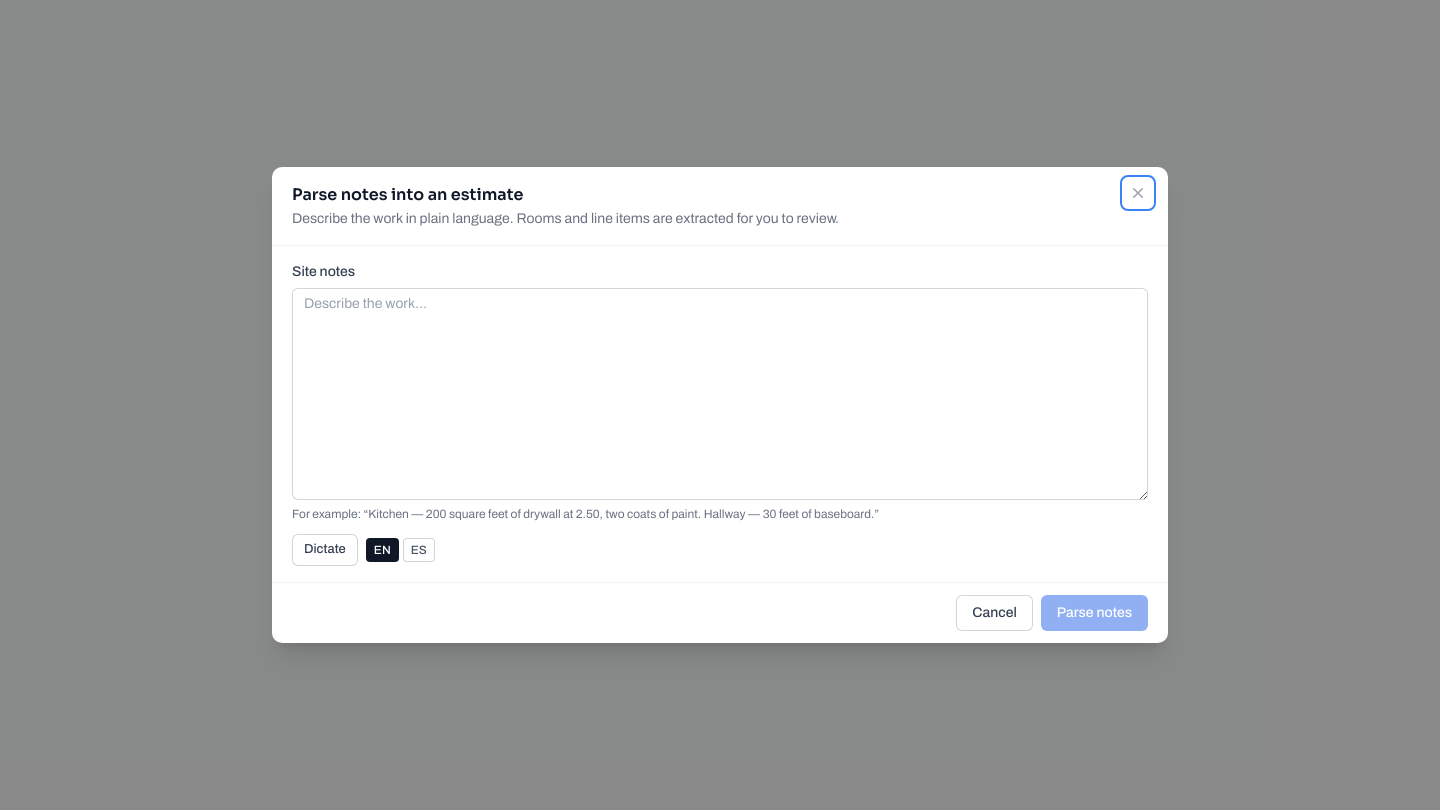
Test case: ParseNotesDrawer › failures › says the parser is unconfigured rather than showing a raw 503
This screenshot has width=1440, height=810.
Type "Kitchen" into the text box labelled "Site notes" at [720, 394], box [292,288,1148,500]
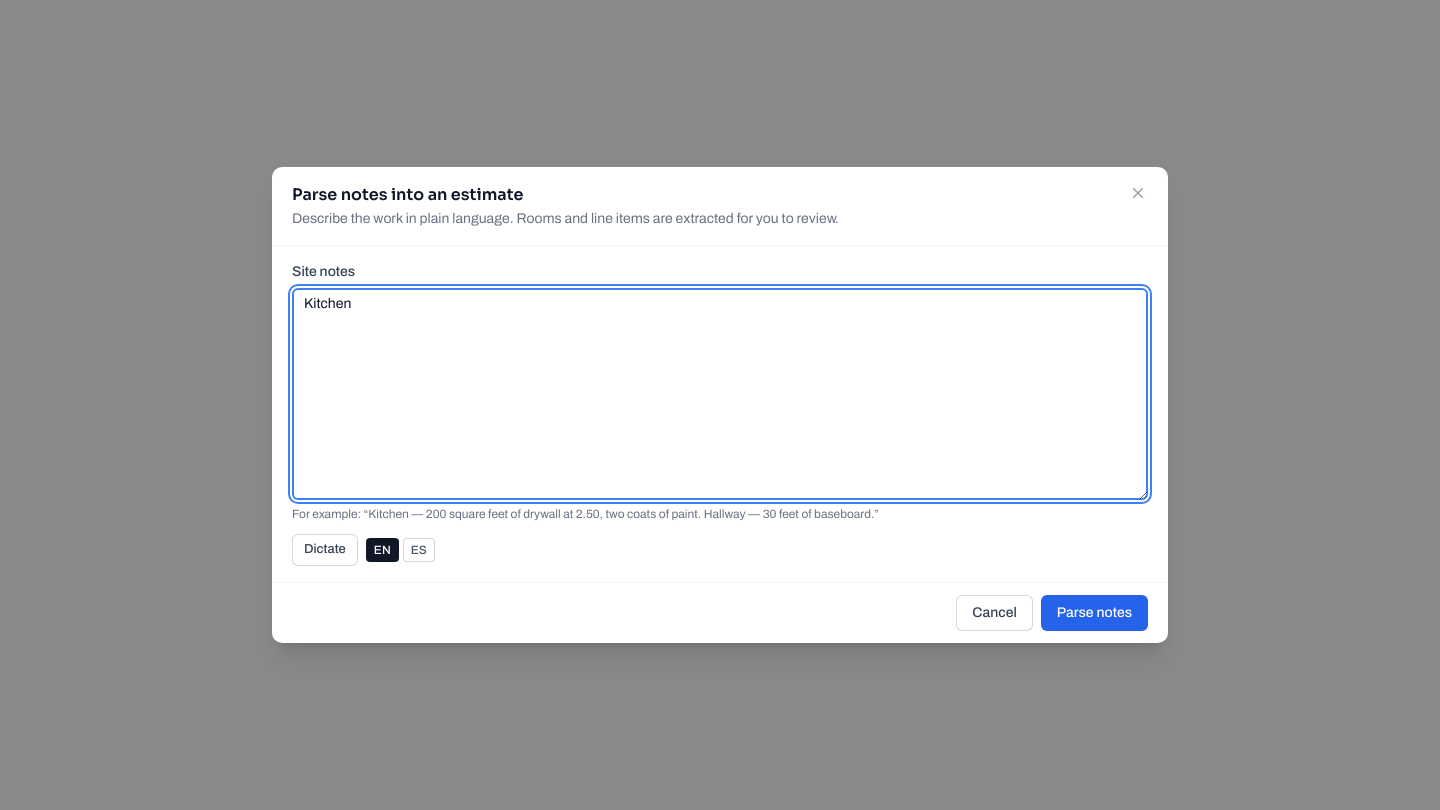
Click the button "Parse notes" at [1094, 613], box [1041,595,1148,631]
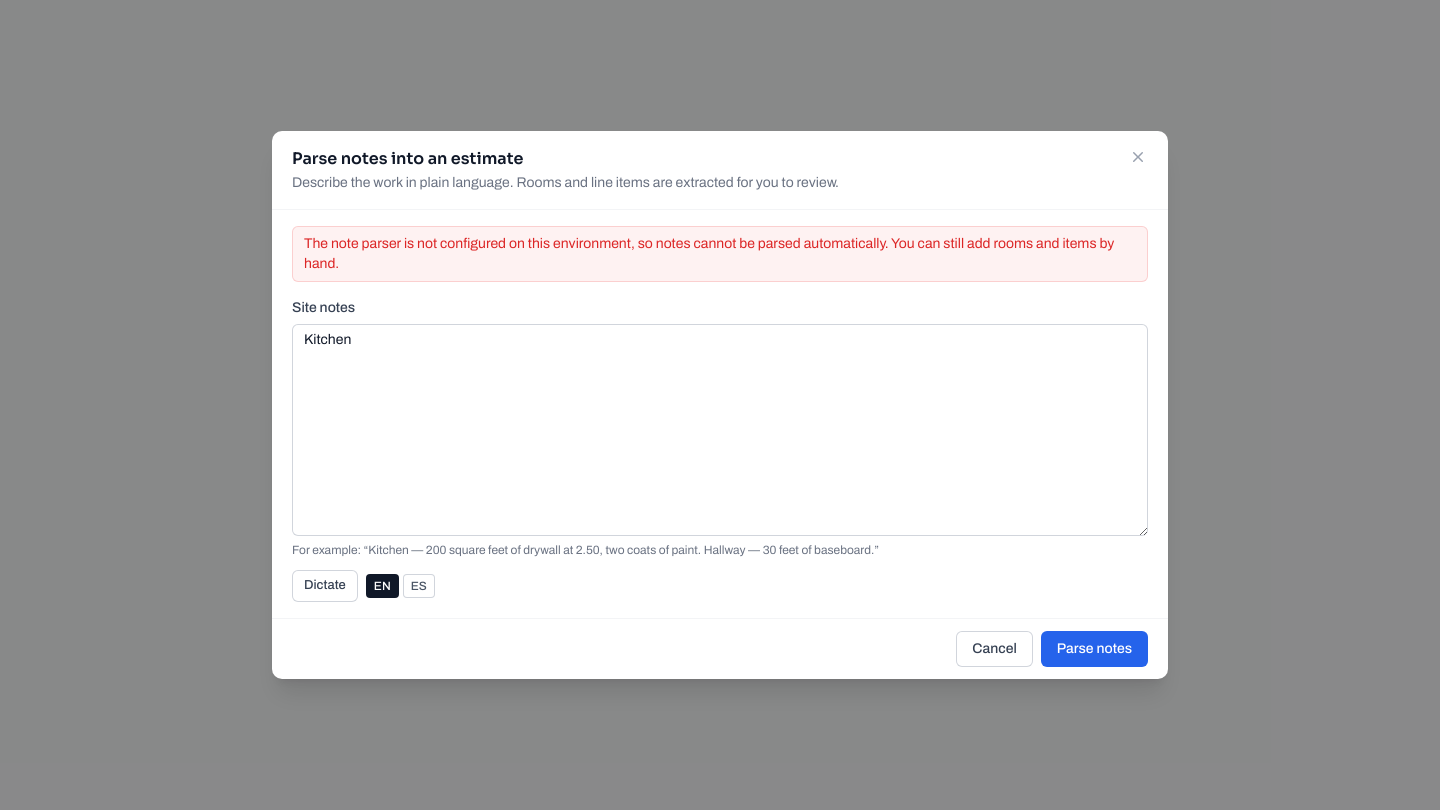
Expected: the text "add rooms and items by hand" is shown, [304,236,1114,271]
